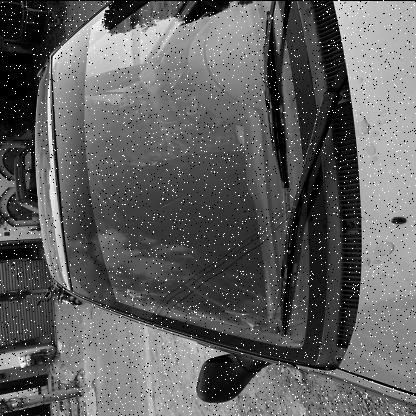no_seatbelt: (87, 82, 205, 137)
